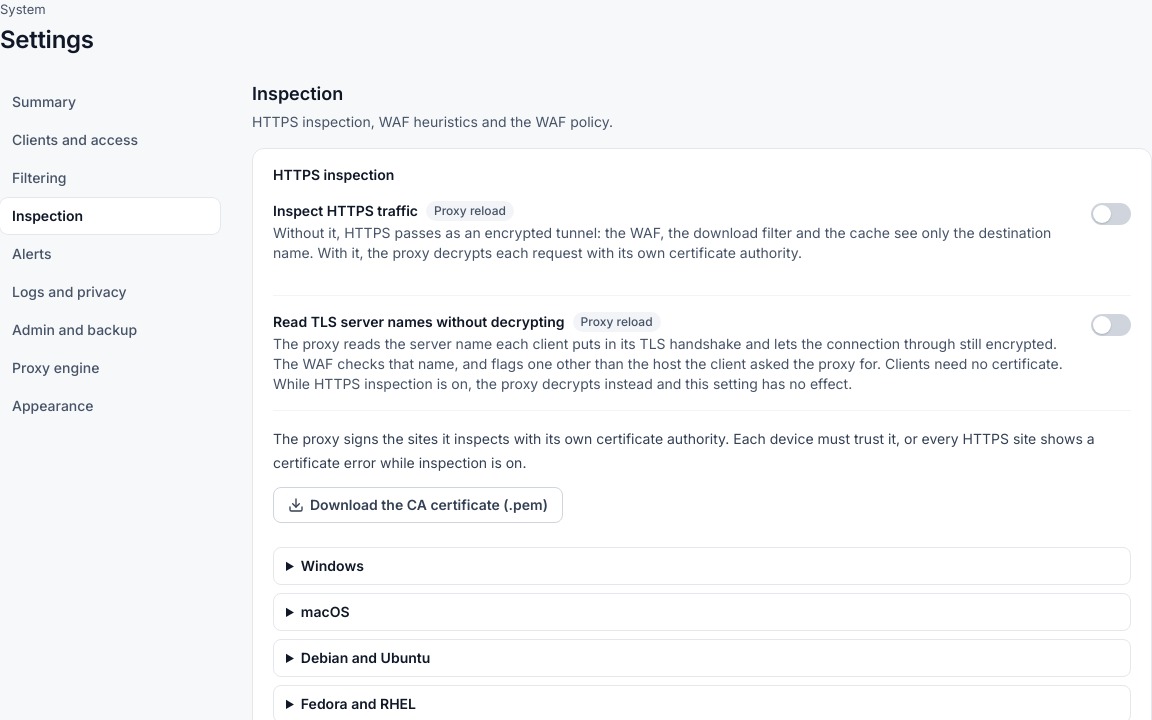
Test case: Settings sections, part B › Inspection › warns before inspection is turned on
Click the switch named "Inspect HTTPS traffic" in the row of "Inspect HTTPS traffic": (1111, 214) [1091,202,1131,224]
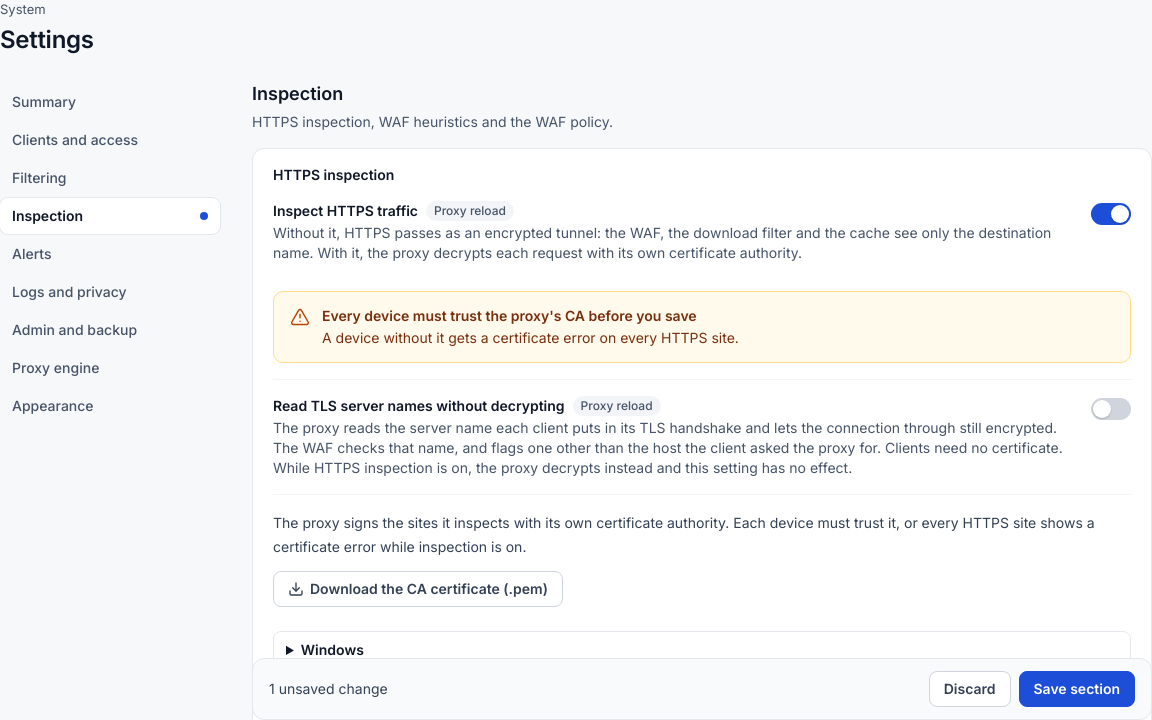
Expected: the text "Every device must trust the proxy's CA before you save" is shown, [322,306,697,324]
